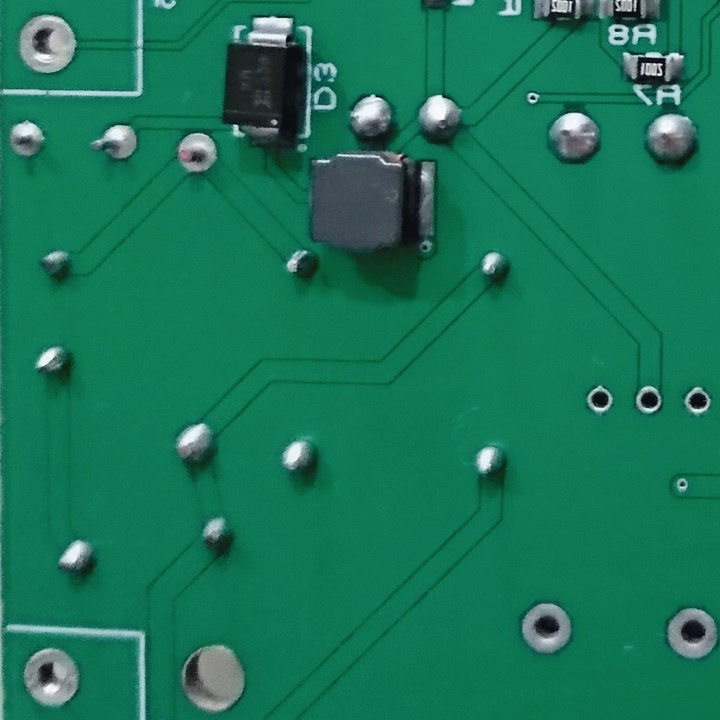F: (13, 10, 84, 78), (16, 647, 82, 711), (516, 597, 577, 659), (659, 603, 720, 660), (86, 120, 142, 164), (172, 127, 220, 176), (7, 117, 48, 165), (632, 383, 666, 417), (680, 386, 713, 417), (583, 383, 616, 414)
